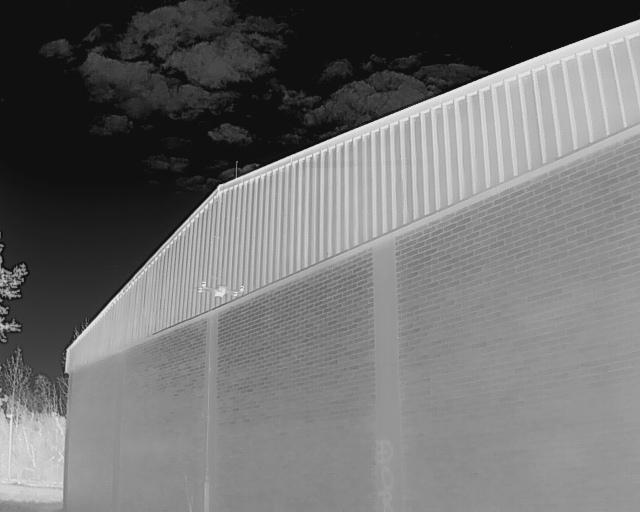drone: (188, 265, 255, 308)
